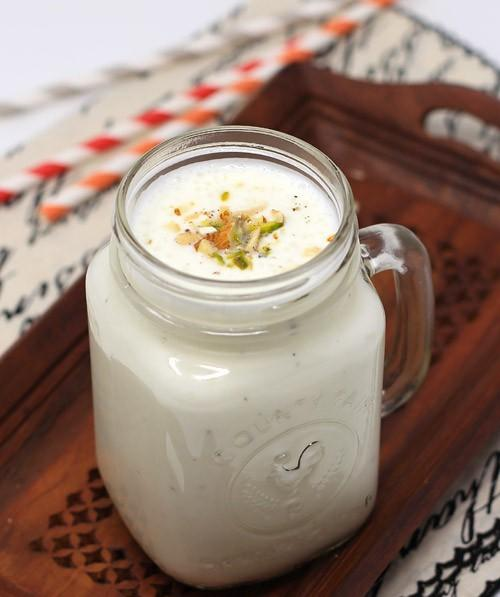Lassi: (87, 159, 385, 590)
